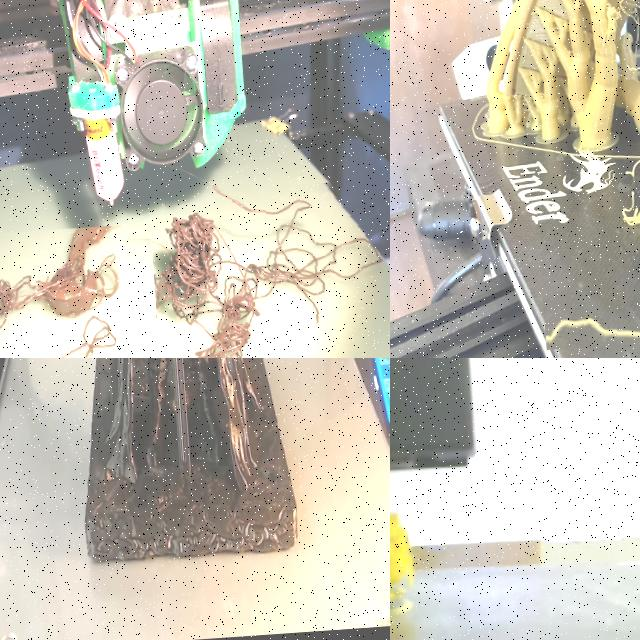spaghetti: (148, 172, 390, 358), (0, 224, 142, 358), (536, 192, 640, 349)
